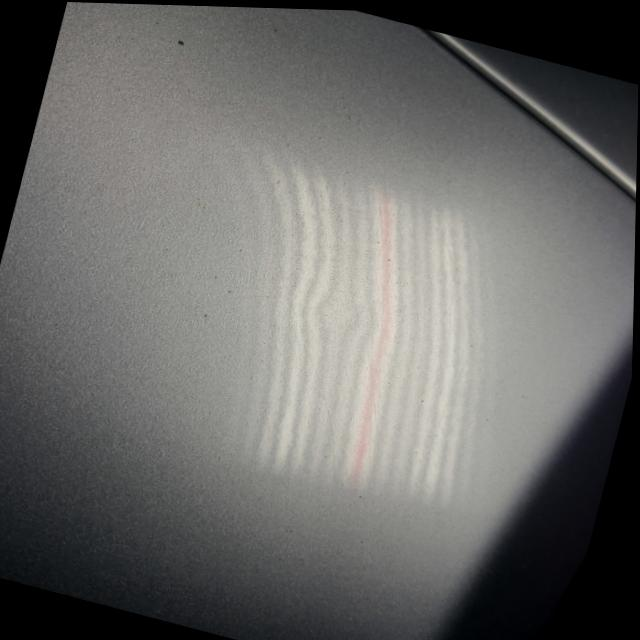PDR-Dent: (302, 294, 375, 341)
Scratch: (174, 39, 184, 46)
